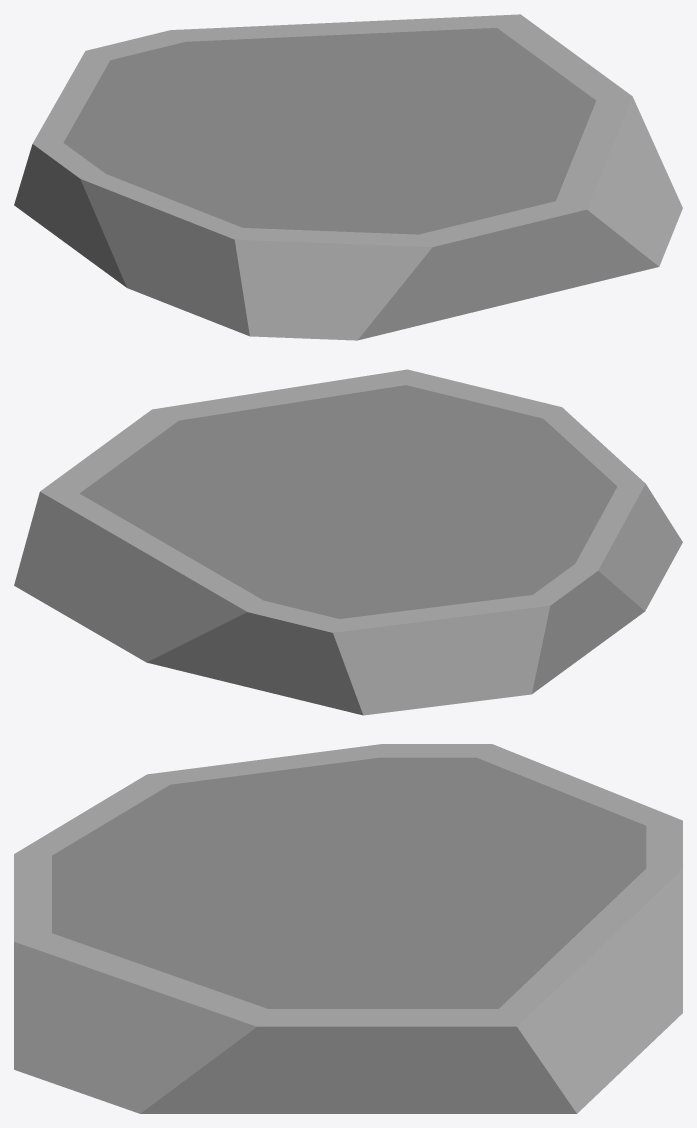
The model's file is StoneForCaseOpen.fbx.
3 renders of one model, top to bottom at view 1: azimuth 30°, elevation 25°; view 2: azimuth 150°, elevation 25°; view 3: azimuth 270°, elevation 25°, orthographic. The views are drawn at different scales.
Parts seen in each view (by area): view 1: Cube; view 2: Cube; view 3: Cube.
Part boxes in pixels (box(x1,y1,x2,y2)): Cube: box(14, 14, 682, 340); Cube: box(14, 369, 682, 715); Cube: box(14, 744, 682, 1113).
Size of the model in its own units: 456 by 65.45 by 456.
1 material, 1 textured.
